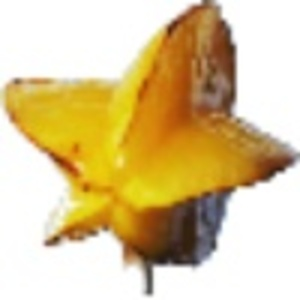carambola: (1, 1, 297, 284)
